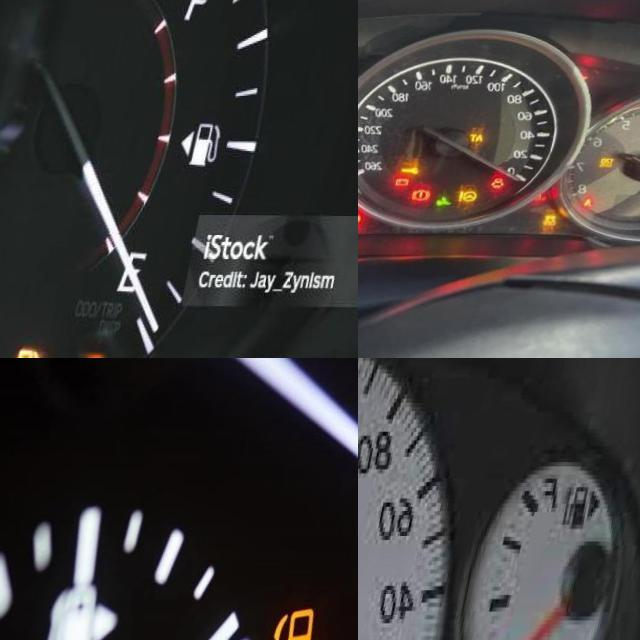Electronic Power Steering: (471, 189, 492, 203)
High Engine Coolant Temperature: (547, 192, 560, 200)
Seat Belt: (596, 197, 606, 207)
